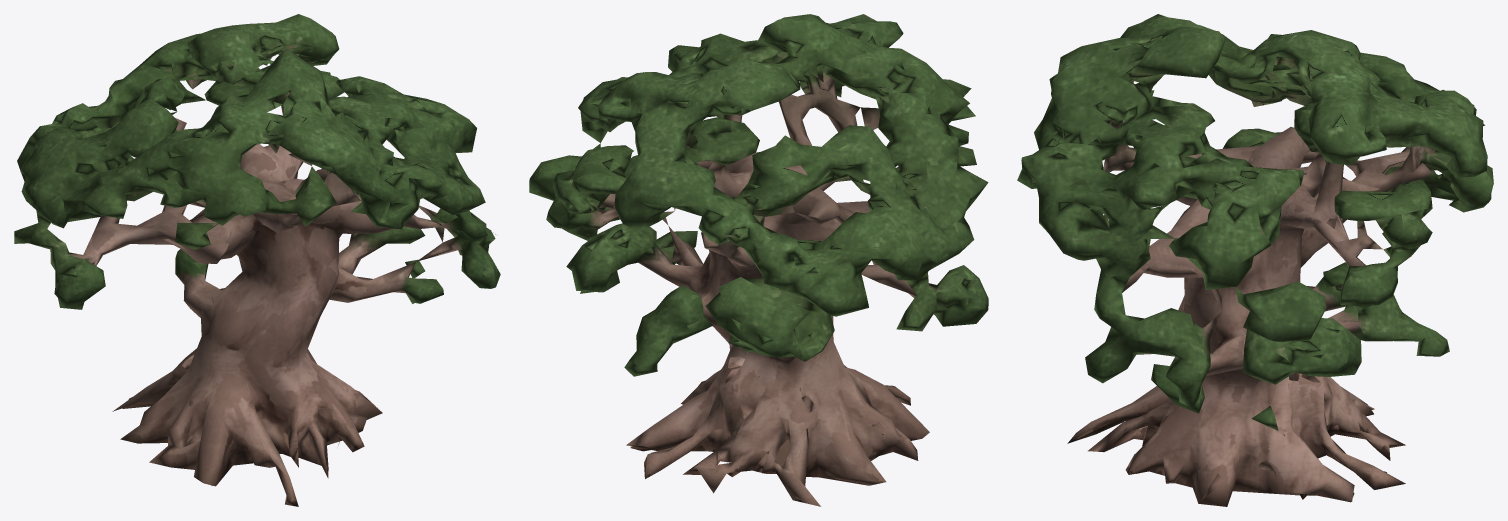
Rendered from oak3d.glb.
3 views of the same model, side by side, from view 1: azimuth 30°, elevation 25°; view 2: azimuth 150°, elevation 25°; view 3: azimuth 270°, elevation 25° (orthographic). The views are drawn at different scales.
Parts seen in each view (by area): view 1: geometry_0; view 2: geometry_0; view 3: geometry_0.
Part boxes in pixels (bbox=[...]): geometry_0: bbox=[14, 14, 500, 506]; geometry_0: bbox=[529, 14, 988, 506]; geometry_0: bbox=[1017, 14, 1493, 506].
Bounding box in the file's own units: 0.9784 × 0.9048 × 0.8825.
Materials: 1 (1 with a texture image).
